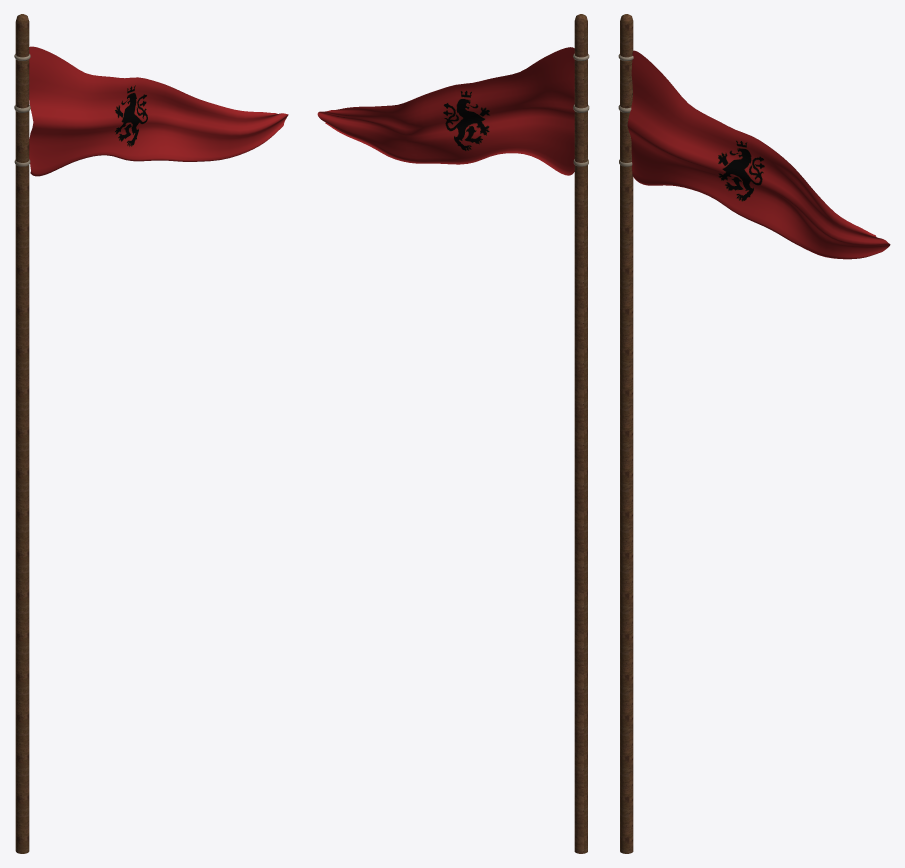
Rendered from fbxFlag.fbx.
The picture shows the model from 3 angles, left to right: view 1: azimuth 30°, elevation 25°; view 2: azimuth 150°, elevation 25°; view 3: azimuth 330°, elevation 25°; orthographic projection.
Parts seen in each view (by area): view 1: flag1, wood; view 2: flag1, wood; view 3: flag1, wood.
Boxes of the visible parts, x1,y1,x2,y2 form: flag1: [29, 46, 288, 176]; wood: [14, 14, 30, 853]; flag1: [317, 47, 574, 175]; wood: [573, 14, 589, 853]; flag1: [627, 50, 890, 259]; wood: [618, 14, 633, 853].
Bounding box in the file's own units: 7.08 × 20.8 × 0.8603.
4 materials, 3 textured.
